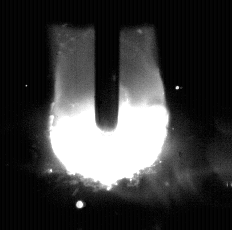arame: (96, 0, 120, 132)
poca: (49, 0, 168, 230)
